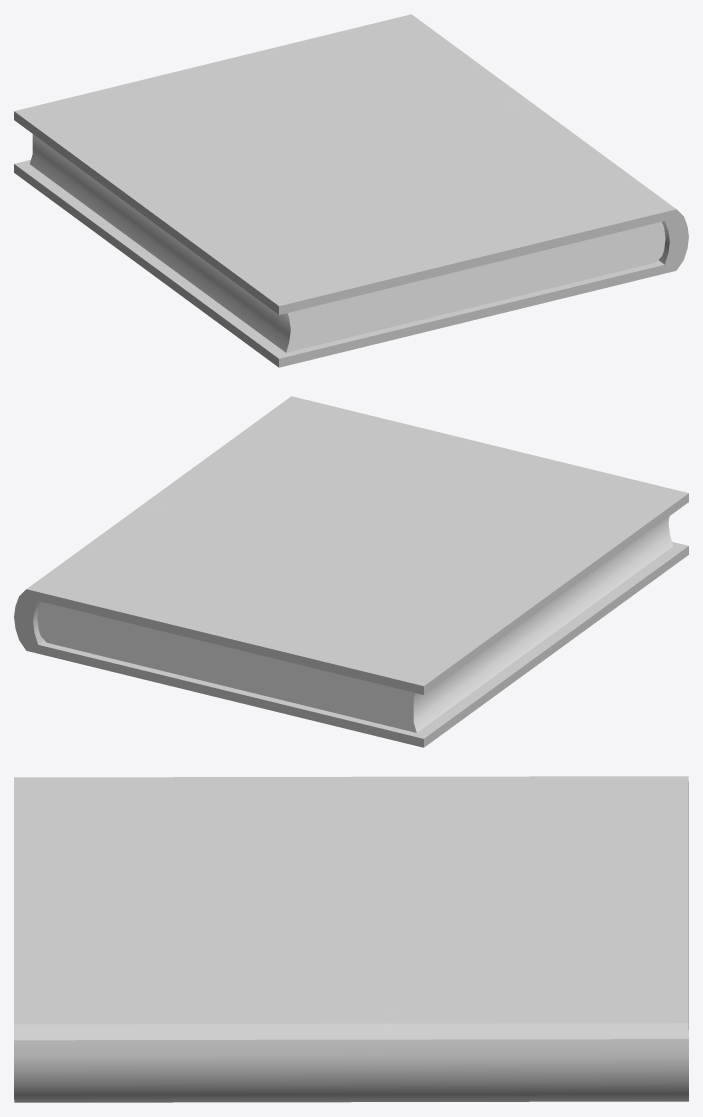
The model's file is whitebook.fbx.
3 views of the same model, one above another, from view 1: azimuth 30°, elevation 25°; view 2: azimuth 150°, elevation 25°; view 3: azimuth 270°, elevation 25° (orthographic). The views are drawn at different scales.
Parts seen in each view (by area): view 1: polySurface2; view 2: polySurface2; view 3: polySurface2.
Part boxes in pixels (x1,y1,x2,y2): polySurface2: [14, 14, 688, 367]; polySurface2: [14, 396, 688, 747]; polySurface2: [14, 776, 688, 1102].
Bounding box in the file's own units: 0.00277 × 0.000405 × 0.00311.
1 material, 1 textured.
